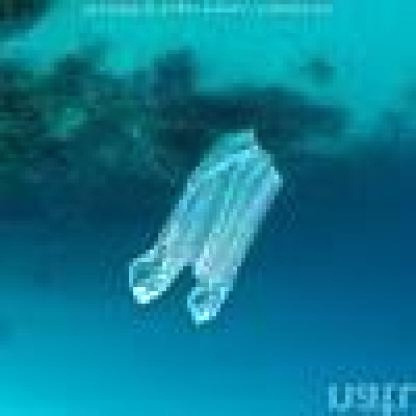pbag: (112, 121, 287, 328)
